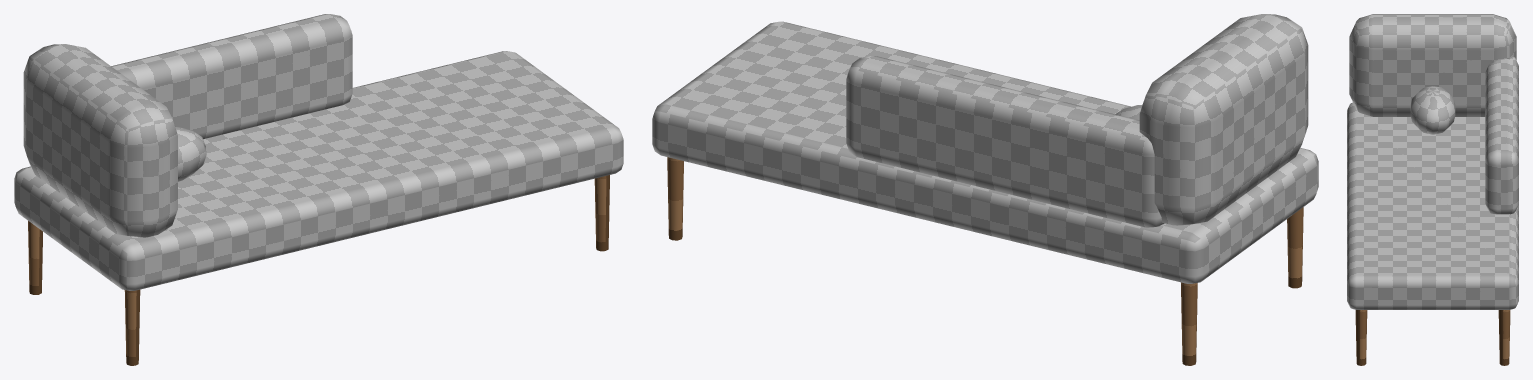
File: chaiseLongue.glb
3 renders of one model, left to right at view 1: azimuth 30°, elevation 25°; view 2: azimuth 150°, elevation 25°; view 3: azimuth 270°, elevation 25°, orthographic. The views are drawn at different scales.
Parts seen in each view (by area): view 1: dyn_velvet_variant, dyn_wood_variant; view 2: dyn_velvet_variant, dyn_wood_variant; view 3: dyn_velvet_variant, dyn_wood_variant.
Boxes of the visible parts, left/top/right/bottom form: dyn_velvet_variant: left=14, top=14, right=623, bottom=290; dyn_wood_variant: left=28, top=175, right=609, bottom=365; dyn_velvet_variant: left=652, top=14, right=1318, bottom=283; dyn_wood_variant: left=667, top=157, right=1303, bottom=365; dyn_velvet_variant: left=1347, top=14, right=1518, bottom=309; dyn_wood_variant: left=1355, top=310, right=1510, bottom=365.
Bounding box in the file's own units: 1.8 × 0.8503 × 0.7202.
2 materials, 2 textured.
